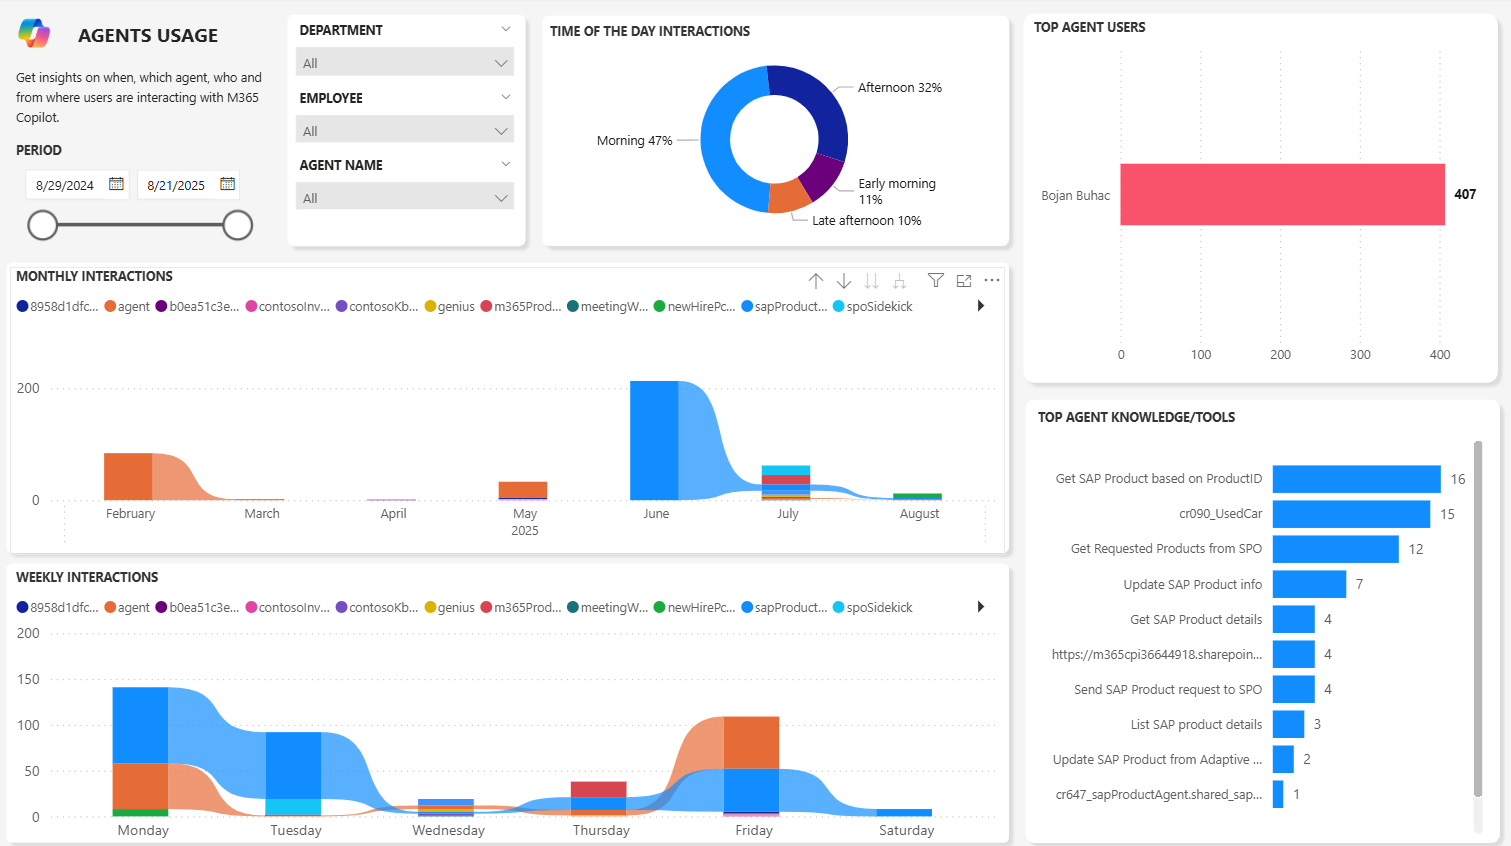

What the dashboard file says about the page in this screenshot:
{"tool":"powerbi","page":{"name":"Agents","canvas":[1280,720],"ordinal":1},"visuals":[{"type":"shape","box":[0,217,859.4,259.1],"z":0},{"type":"shape","box":[0,470.8,859.4,249.6],"z":1000},{"type":"shape","box":[857.2,6.7,414.1,325.5],"z":2000},{"type":"shape","box":[859.1,332.3,414.1,388.1],"z":3000},{"type":"shape","box":[237,7.4,214.9,209.6],"z":4000},{"type":"shape","box":[451.8,8.4,407.6,208.5],"z":5000},{"type":"slicer","fields":{"Values":["Copilot.AGENT NAME"]},"box":[241.4,128.7,204.3,49.5],"z":6000},{"type":"slicer","fields":{"Values":["Users.DEPARTMENT"]},"box":[241.4,14.9,204.3,50.6],"z":7000},{"type":"ribbonChart","title":"MONTHLY INTERACTIONS","fields":{"Y":["CountNonNull(Copilot.TimeStamp)"],"Category":["Copilot.TimeStamp.Variation.Date Hierarchy.Year","Copilot.TimeStamp.Variation.Date Hierarchy.Month"],"Series":["Copilot.AGENT NAME"]},"box":[10.5,227.5,838.4,243.3],"z":8000},{"type":"slicer","title":"PERIOD","fields":{"Values":["Copilot.TimeStamp"]},"box":[10.4,121.6,213.9,88.8],"z":9000},{"type":"ribbonChart","title":"WEEKLY INTERACTIONS","fields":{"Category":["WeekDays.Week day"],"Series":["Copilot.AGENT NAME"],"Y":["CountNonNull(Copilot.AGENT NAME)"]},"box":[10.5,481.3,838.4,239.1],"z":10000},{"type":"barChart","title":"TOP AGENT KNOWLEDGE/TOOLS","fields":{"Y":["CountNonNull(Copilot.TimeStamp)"],"Category":["Copilot.Accessed Resources"]},"box":[871.6,346.7,385.3,364.1],"z":11000},{"type":"barChart","title":"TOP AGENT USERS","fields":{"Y":["CountNonNull(Copilot.TimeStamp)"],"Category":["Users.EMPLOYEE"]},"box":[868.7,17.3,394.9,300.5],"z":12000},{"type":"donutChart","title":"TIME OF THE DAY INTERACTIONS","fields":{"Y":["CountNonNull(Copilot.TimeStamp)"],"Category":["Copilot.Time of the day"]},"box":[460.2,20.9,388.4,183.8],"z":13000},{"type":"slicer","fields":{"Values":["Users.EMPLOYEE"]},"box":[241.4,72.9,204.3,49.5],"z":14000},{"type":"image","box":[10.8,10.8,39.5,39.5],"z":15000},{"type":"textbox","box":[62.2,21.1,150.7,28.5],"z":16000},{"type":"textbox","box":[10.4,52.6,226.8,69],"z":17000},{"type":"advancedtoggleswitch","fields":{"Category":["Users.HasCopilotLicense"]},"box":[391.6,166.5,47.4,49.2],"z":18000},{"type":"textbox","box":[260,185,130,20.7],"z":19000}]}

Visuals, with their boxes in screenshot pixels (x1, y1, x2, y2), scaled from the page's 1280x720 canvas onto the 1511x846 screenshot:
shape: select_region(0, 255, 1014, 559)
shape: select_region(0, 553, 1014, 845)
shape: select_region(1012, 8, 1501, 390)
shape: select_region(1014, 390, 1503, 845)
shape: select_region(280, 9, 533, 255)
shape: select_region(533, 10, 1014, 255)
slicer - Copilot.AGENT NAME: select_region(285, 151, 526, 209)
slicer - Users.DEPARTMENT: select_region(285, 18, 526, 77)
"MONTHLY INTERACTIONS" ribbonChart: select_region(12, 267, 1002, 553)
"PERIOD" slicer: select_region(12, 143, 265, 247)
"WEEKLY INTERACTIONS" ribbonChart: select_region(12, 566, 1002, 845)
"TOP AGENT KNOWLEDGE/TOOLS" barChart: select_region(1029, 407, 1484, 835)
"TOP AGENT USERS" barChart: select_region(1025, 20, 1492, 373)
"TIME OF THE DAY INTERACTIONS" donutChart: select_region(543, 25, 1002, 241)
slicer - Users.EMPLOYEE: select_region(285, 86, 526, 144)
image: select_region(13, 13, 59, 59)
textbox: select_region(73, 25, 251, 58)
textbox: select_region(12, 62, 280, 143)
advancedtoggleswitch - Users.HasCopilotLicense: select_region(462, 196, 518, 253)
textbox: select_region(307, 217, 460, 242)
